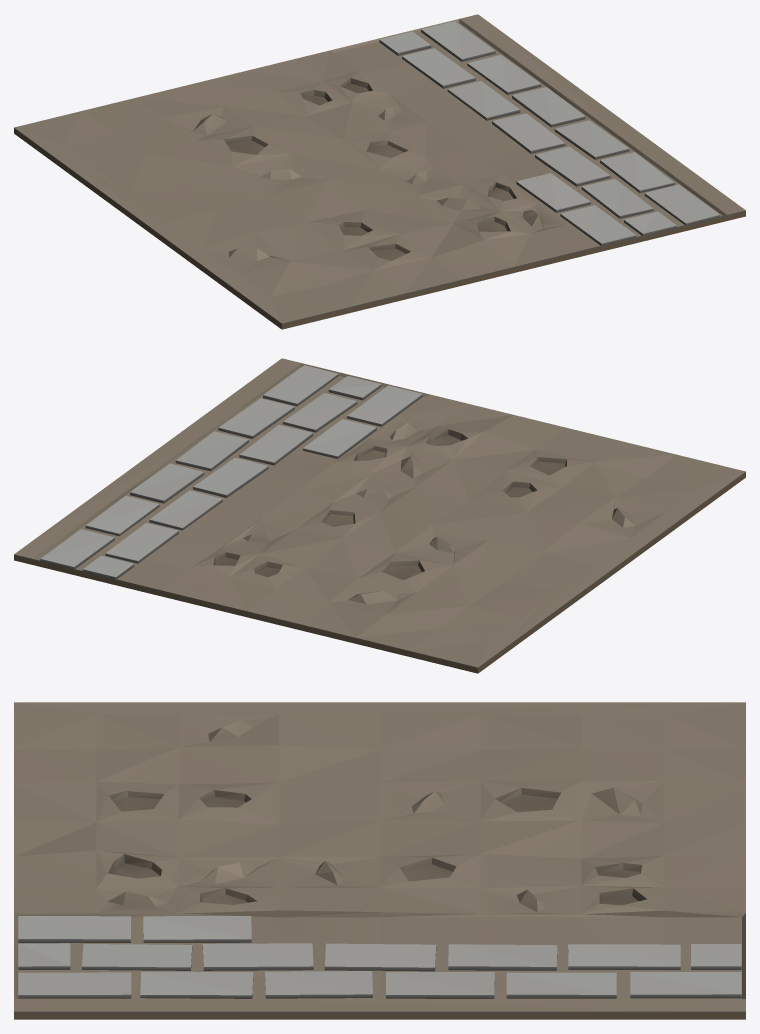
File: mud.glb
3 views of the same model, one above another, from view 1: azimuth 30°, elevation 25°; view 2: azimuth 150°, elevation 25°; view 3: azimuth 270°, elevation 25° (orthographic). The views are drawn at different scales.
Visible parts, largest first — view 1: mud; view 2: mud; view 3: mud.
Boxes of the visible parts, left/top/right/bottom form: mud: left=14, top=14, right=745, bottom=329; mud: left=14, top=358, right=745, bottom=673; mud: left=14, top=702, right=745, bottom=1019.
Bounding box in the file's own units: 4 × 0.106 × 4.
